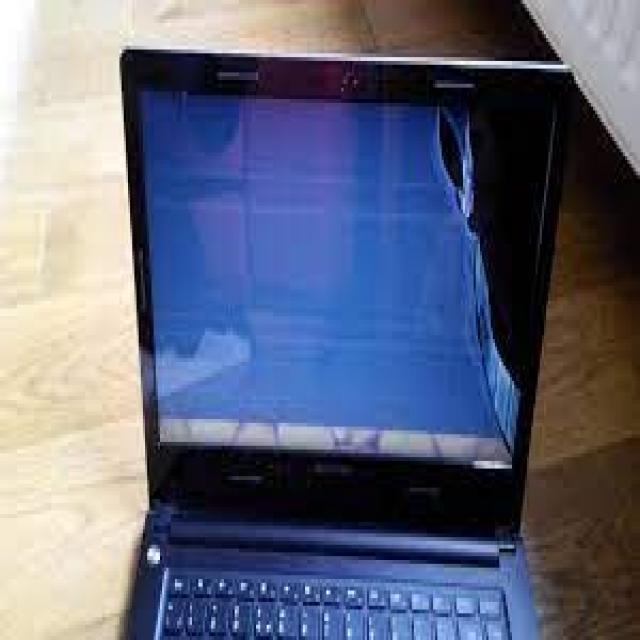Screen cracks: (429, 80, 557, 480)
